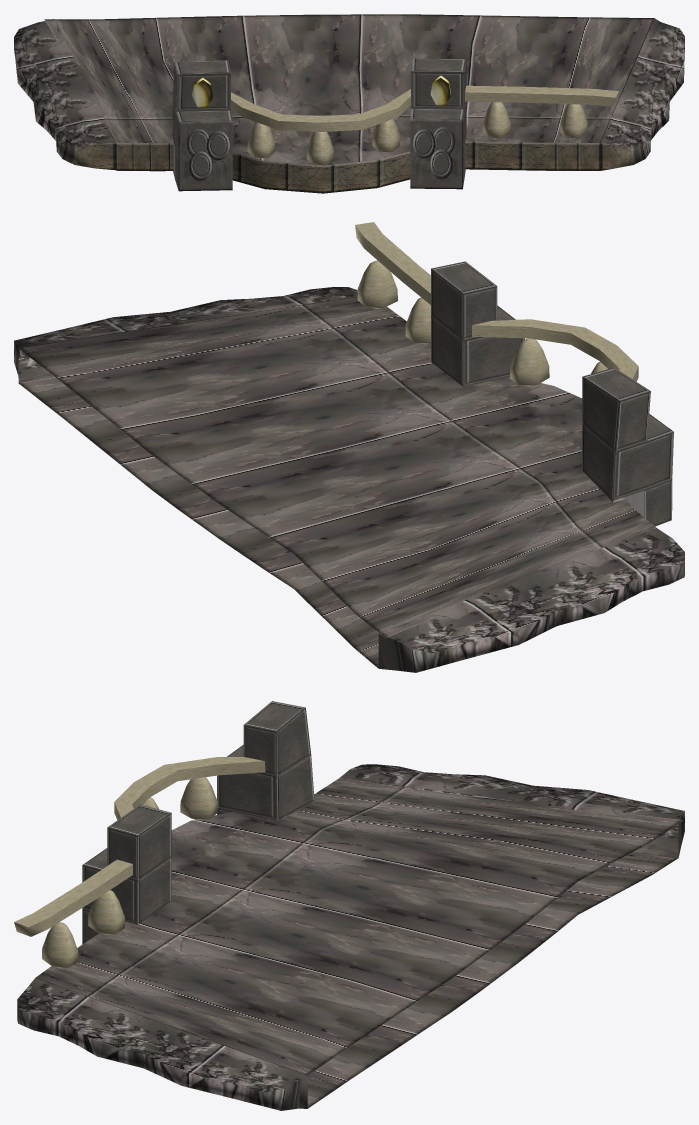
The model's file is CH09_SMAUG_PLAYSURFACE_LAIR28.fbx.
The picture shows the model from 3 angles, top to bottom: view 1: azimuth 30°, elevation 25°; view 2: azimuth 150°, elevation 25°; view 3: azimuth 270°, elevation 25°; orthographic projection. The views are drawn at different scales.
Parts seen in each view (by area): view 1: CH09_SMAUG_PLAYSURFACE_LAIR28; view 2: CH09_SMAUG_PLAYSURFACE_LAIR28; view 3: CH09_SMAUG_PLAYSURFACE_LAIR28.
Part boxes in pixels (box(x1,y1,x2,y2)): CH09_SMAUG_PLAYSURFACE_LAIR28: box(14, 14, 684, 193); CH09_SMAUG_PLAYSURFACE_LAIR28: box(14, 222, 684, 672); CH09_SMAUG_PLAYSURFACE_LAIR28: box(14, 701, 684, 1110).
Bounding box in the file's own units: 131458 × 23934 × 111183.
Materials: 6 (6 with a texture image).
